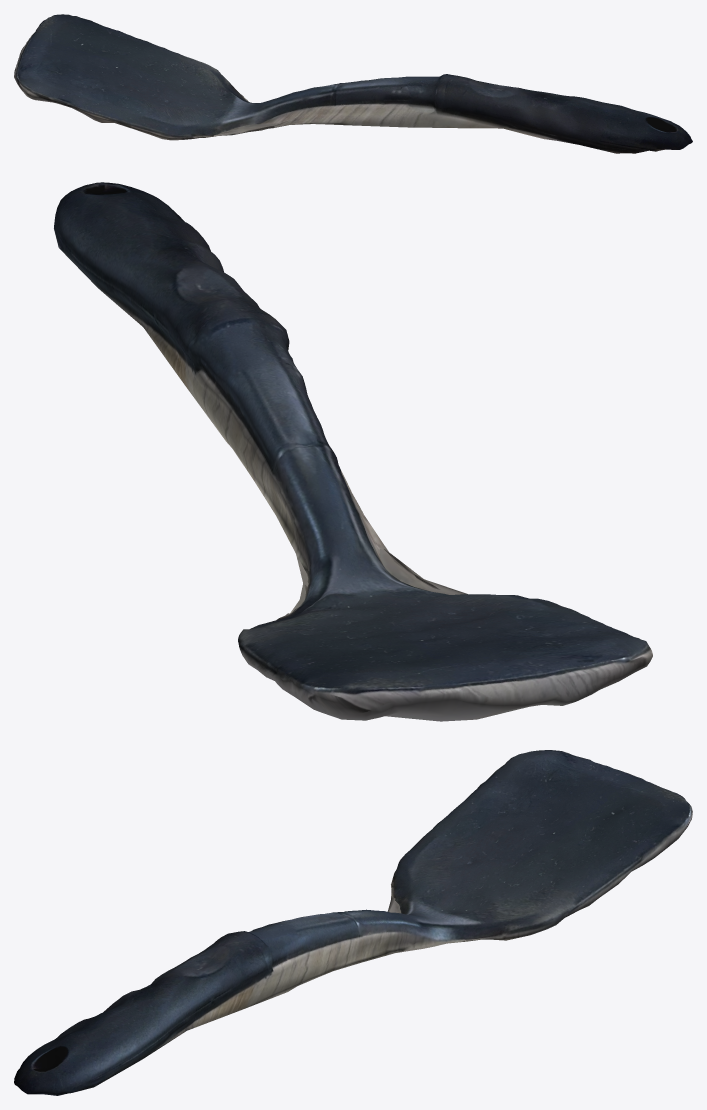
The model's file is spatula.obj.
The picture shows the model from 3 angles, top to bottom: view 1: azimuth 30°, elevation 25°; view 2: azimuth 150°, elevation 25°; view 3: azimuth 270°, elevation 25°; orthographic projection. The views are drawn at different scales.
Parts seen in each view (by area): view 1: mesh_0; view 2: mesh_0; view 3: mesh_0.
Part boxes in pixels (<box>): mesh_0: <box>14,14,692,153</box>; mesh_0: <box>54,182,652,721</box>; mesh_0: <box>14,750,692,1095</box>.
Bounding box in the file's own units: 0.2539 × 0.0308 × 0.2395.
Materials: 1 (1 with a texture image).
